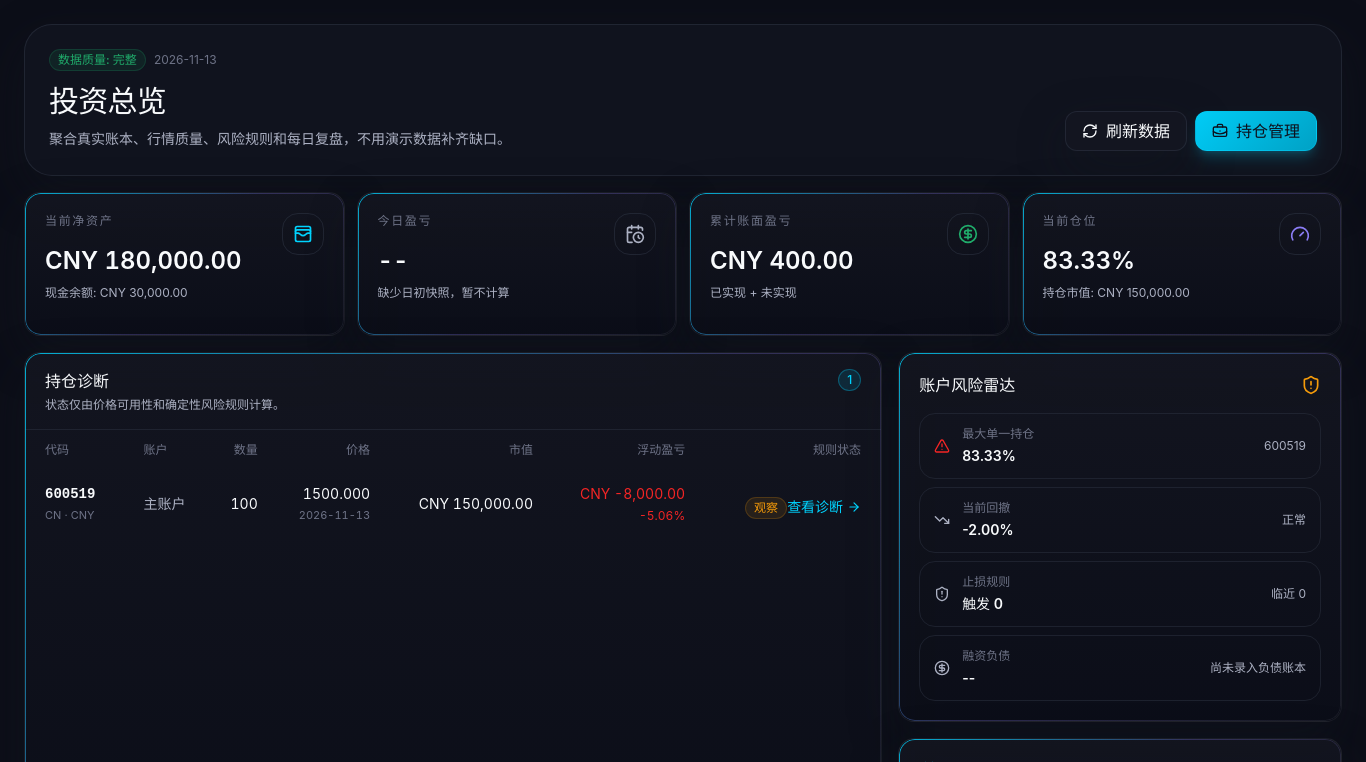
Test case: PortfolioDashboardPage › opens a traceable deterministic diagnosis for a held position
Expected: the heading "投资总览" is shown, [49, 83, 166, 119]
Click the button "查看诊断": [824, 507] box [787, 497, 861, 517]
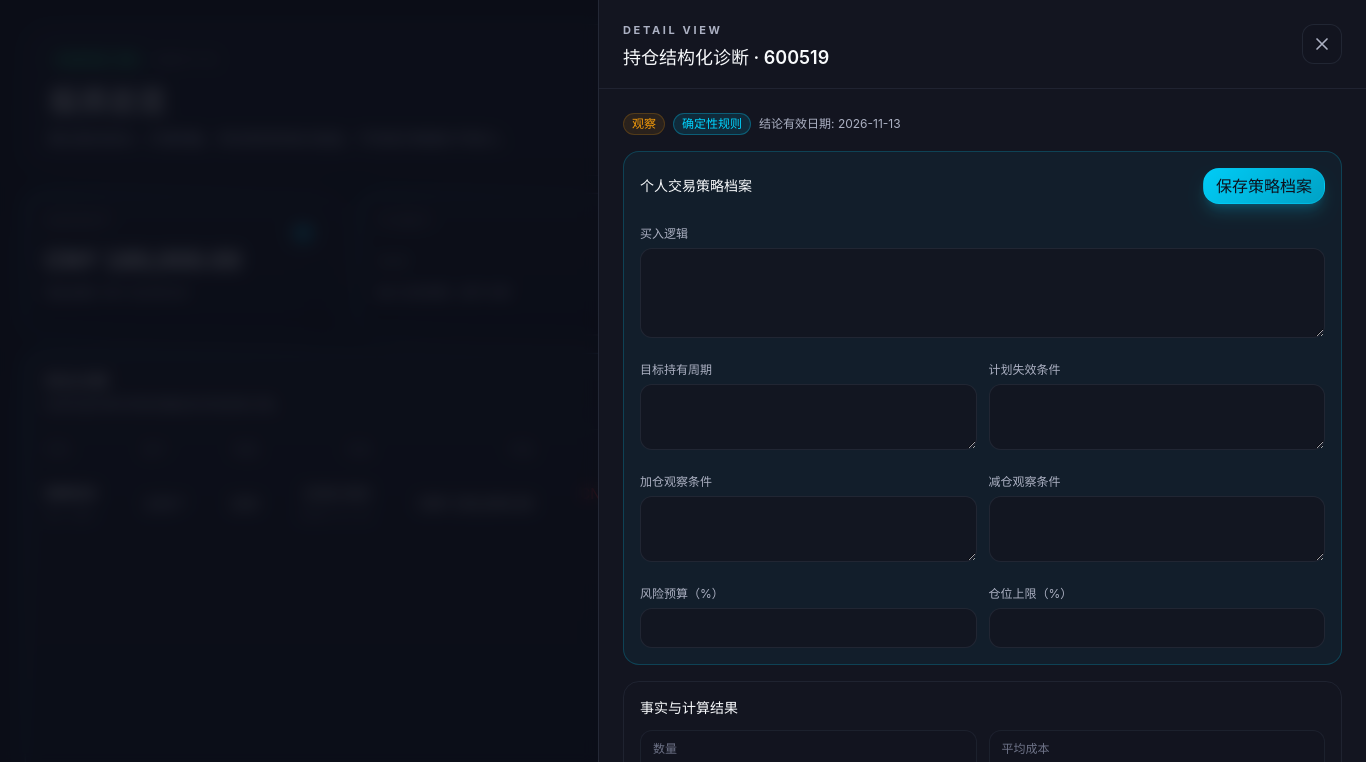
Result: the text "确定性规则" is shown at [673, 113, 751, 135]
Result: the text "买入逻辑" is shown 2 times
Result: the text "风险预算（%）" is shown at [640, 586, 724, 601]
